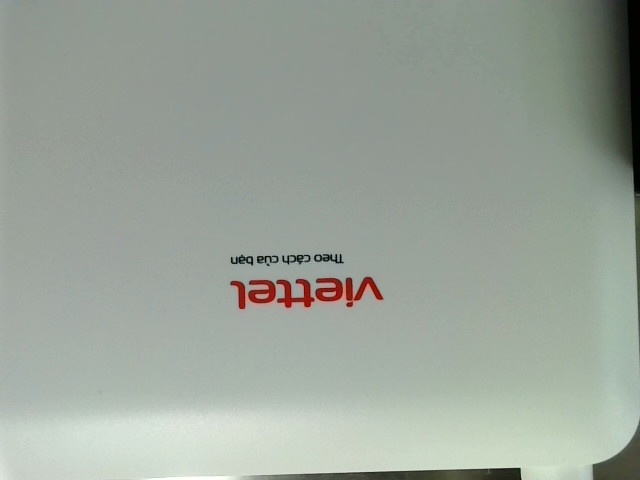AY_Viettel: (205, 246, 393, 313)
